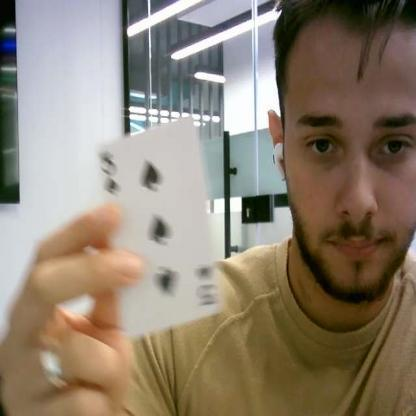3S: (194, 266, 216, 310), (99, 146, 118, 196)
